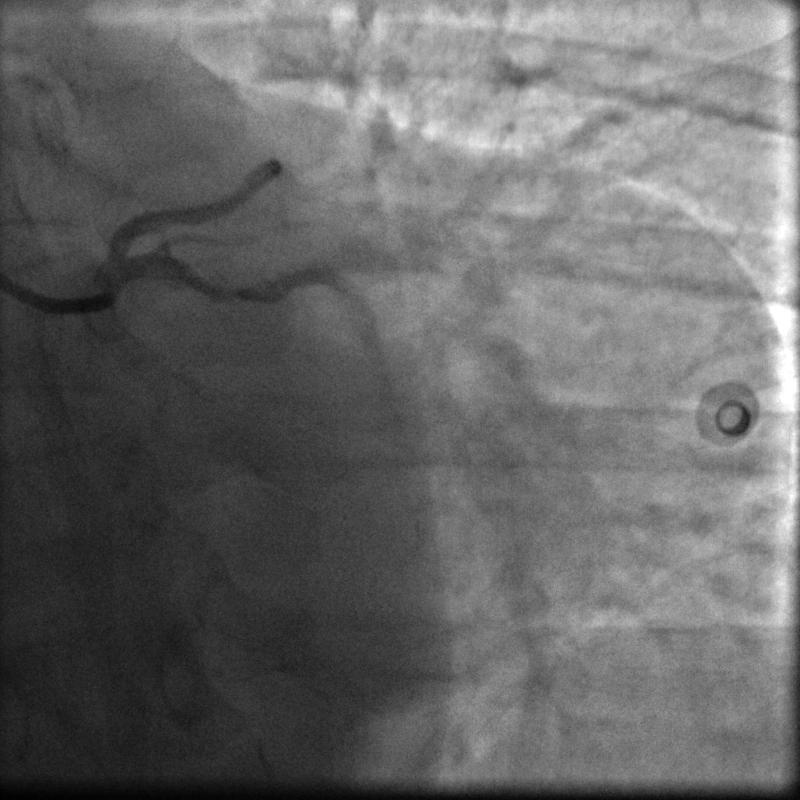Stenosis: (200, 275, 264, 303)
